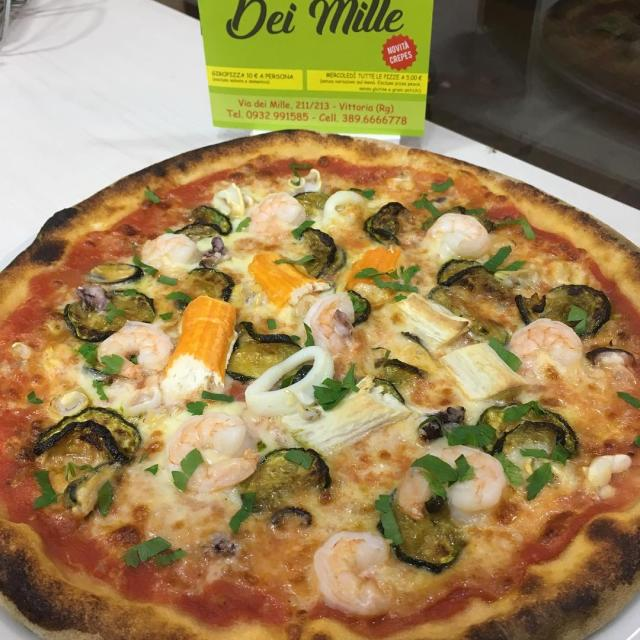basil: (410, 446, 478, 504), (310, 361, 366, 412), (121, 534, 187, 572), (358, 265, 424, 303), (373, 492, 406, 546), (445, 418, 499, 451), (413, 197, 493, 219), (170, 447, 209, 491), (227, 490, 260, 538), (481, 241, 528, 274), (496, 395, 551, 423), (487, 335, 524, 374), (524, 459, 556, 503), (490, 213, 536, 241), (30, 468, 58, 509), (91, 478, 118, 518), (492, 451, 523, 483), (282, 159, 314, 187), (271, 250, 317, 269), (74, 342, 101, 369), (199, 388, 237, 406), (285, 449, 315, 471), (566, 305, 588, 334), (612, 388, 640, 409), (100, 353, 124, 377), (103, 302, 127, 326), (347, 184, 381, 200), (134, 256, 160, 276), (289, 219, 315, 239), (91, 381, 113, 404), (430, 176, 457, 194), (298, 321, 317, 345), (554, 440, 570, 467), (516, 445, 548, 458), (187, 399, 210, 417), (156, 272, 181, 286), (143, 187, 163, 204), (167, 291, 195, 303), (26, 389, 44, 406), (235, 216, 252, 233), (157, 312, 176, 322), (123, 289, 140, 298), (265, 318, 277, 328)
pizza: (0, 127, 640, 640)
